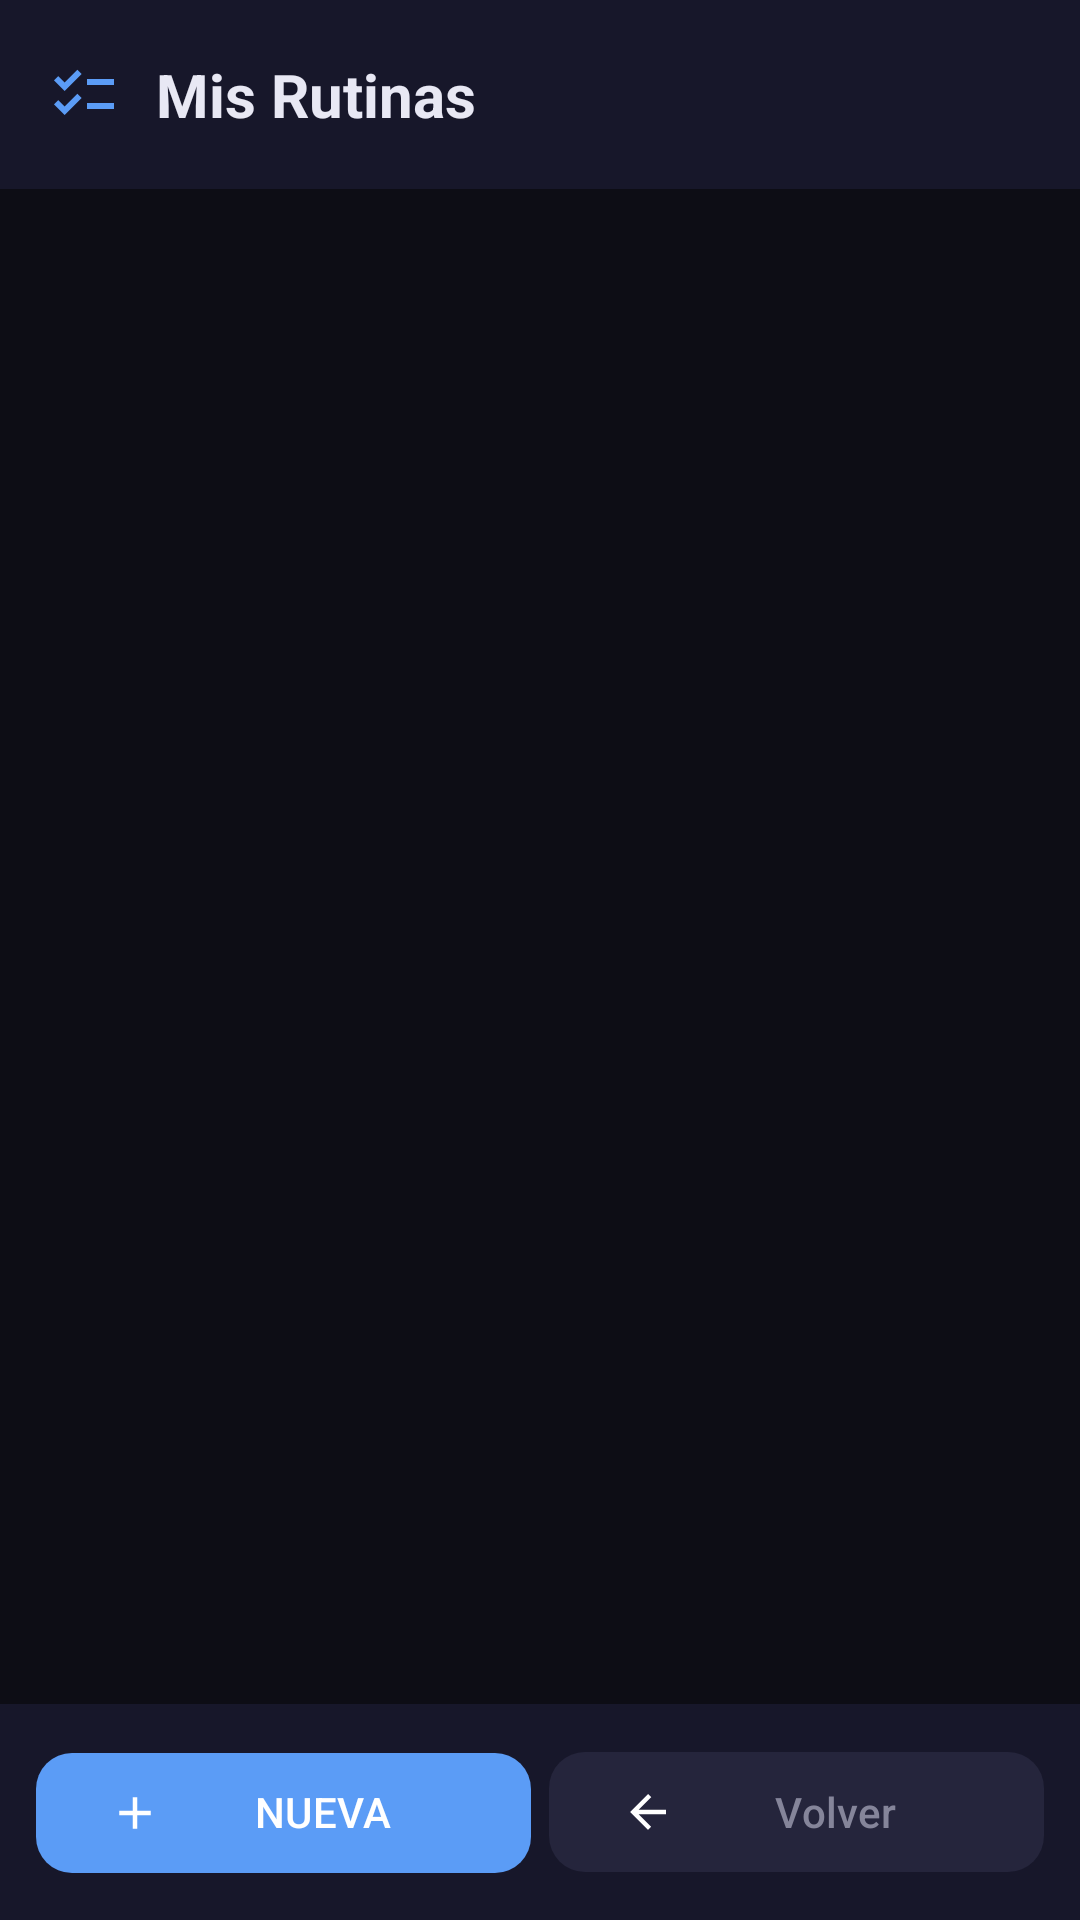

Icon bounding boxes for this 1080w x 1920h phone screenshot, format (x1, y1, x2, y2):
checklist: (54, 70, 114, 115)
